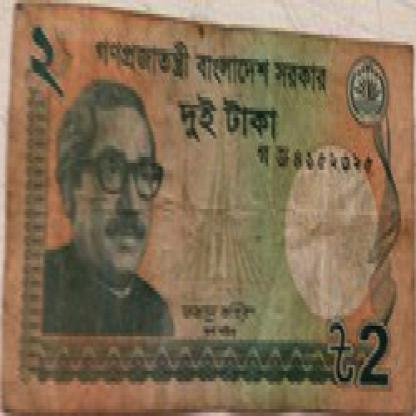two taka: (331, 305, 398, 392), (23, 3, 67, 108)
